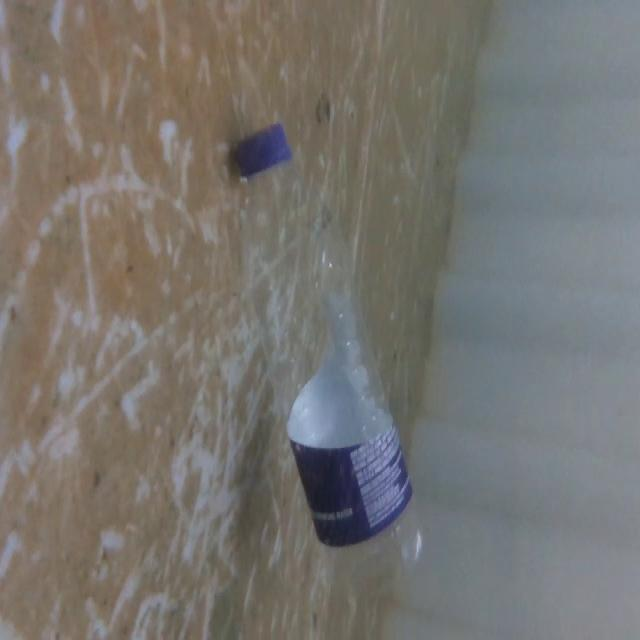plastic bottle: (231, 116, 429, 592)
